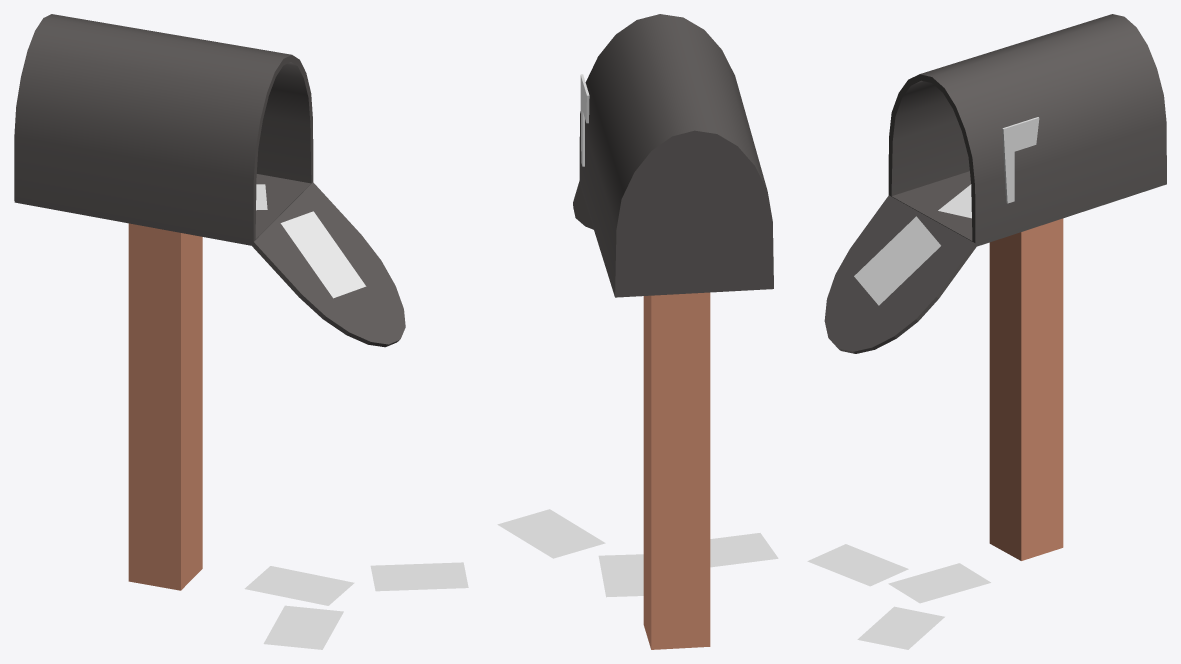
The model's file is Mail.glb.
3 renders of one model, left to right at view 1: azimuth 30°, elevation 25°; view 2: azimuth 150°, elevation 25°; view 3: azimuth 270°, elevation 25°, orthographic. The views are drawn at different scales.
Parts seen in each view (by area): view 1: Mail; view 2: Mail; view 3: Mail.
Boxes of the visible parts, x1=… form: Mail: x1=14, y1=14, x2=468, y2=649; Mail: x1=497, y1=14, x2=778, y2=649; Mail: x1=807, y1=14, x2=1166, y2=649.
Bounding box in the file's own units: 0.4017 × 0.579 × 0.3784.
